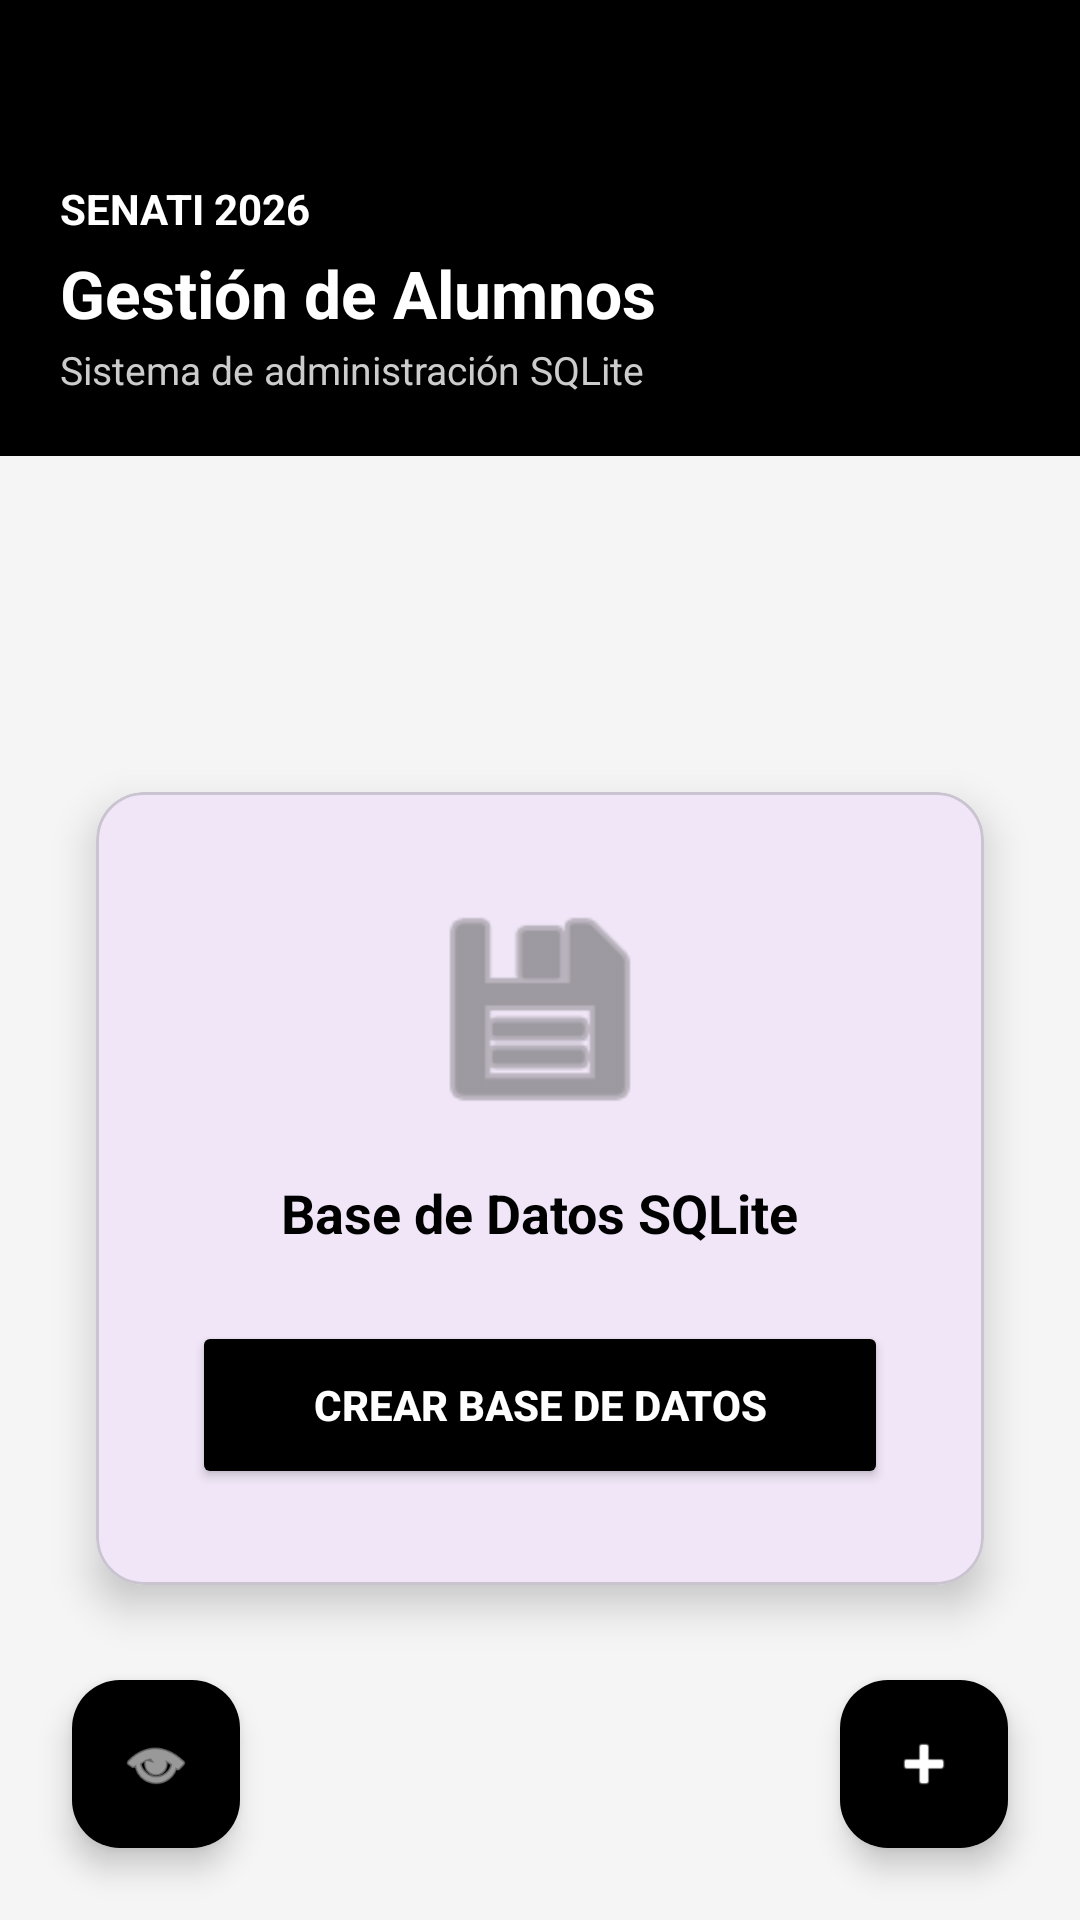

Screen size 1080 × 1920. Icon name, then its center in pixels as [x,y]:
Nuevo Alumno: [924,1764]
save: [540,1009]
Ver Alumnos: [156,1764]
